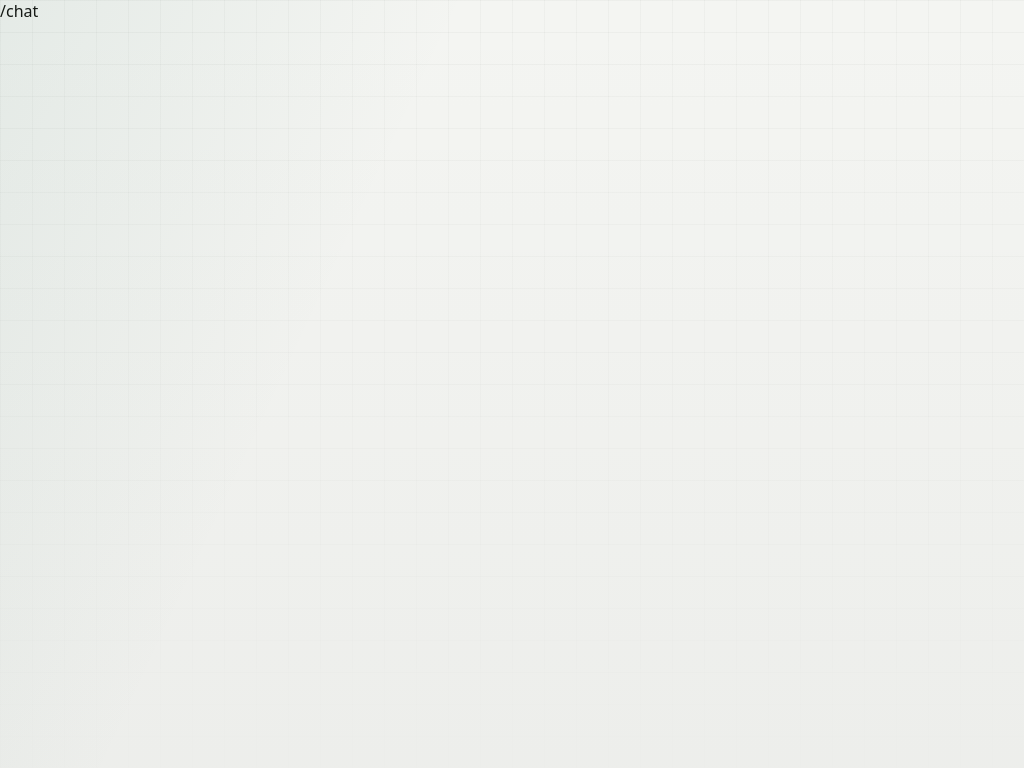
Scenario: CommandPalette › renders a clear empty result state
Press k
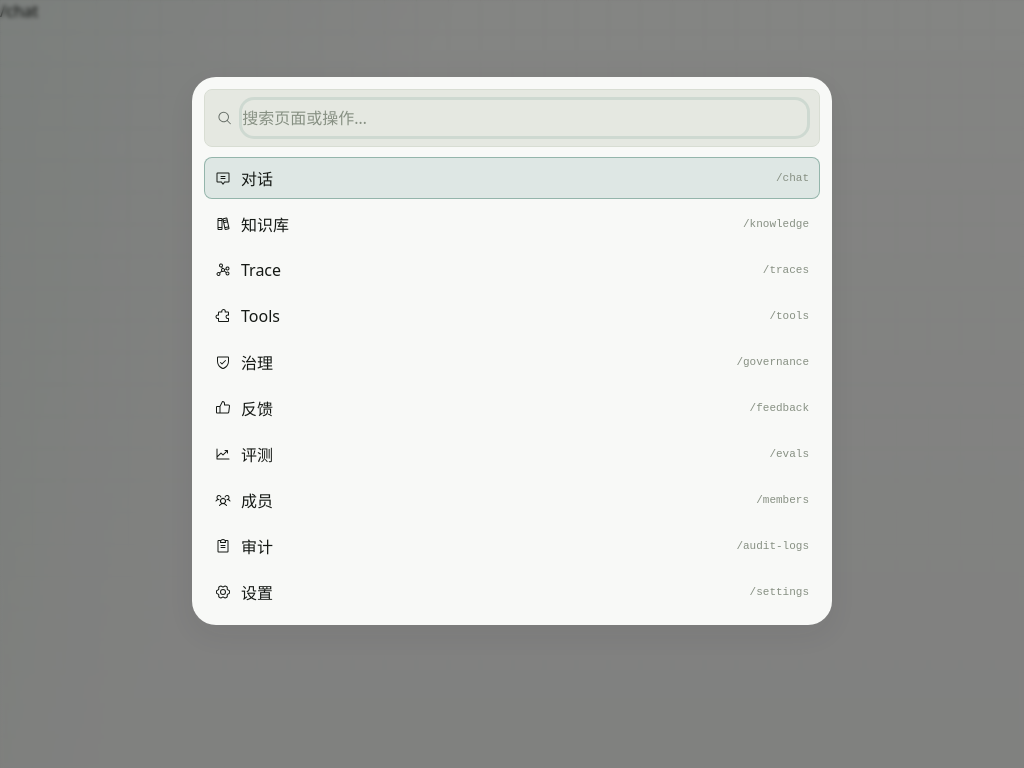
In the dropdown labelled "搜索页面或操作": (525, 118) [242,100,807,136], type "no-matches"
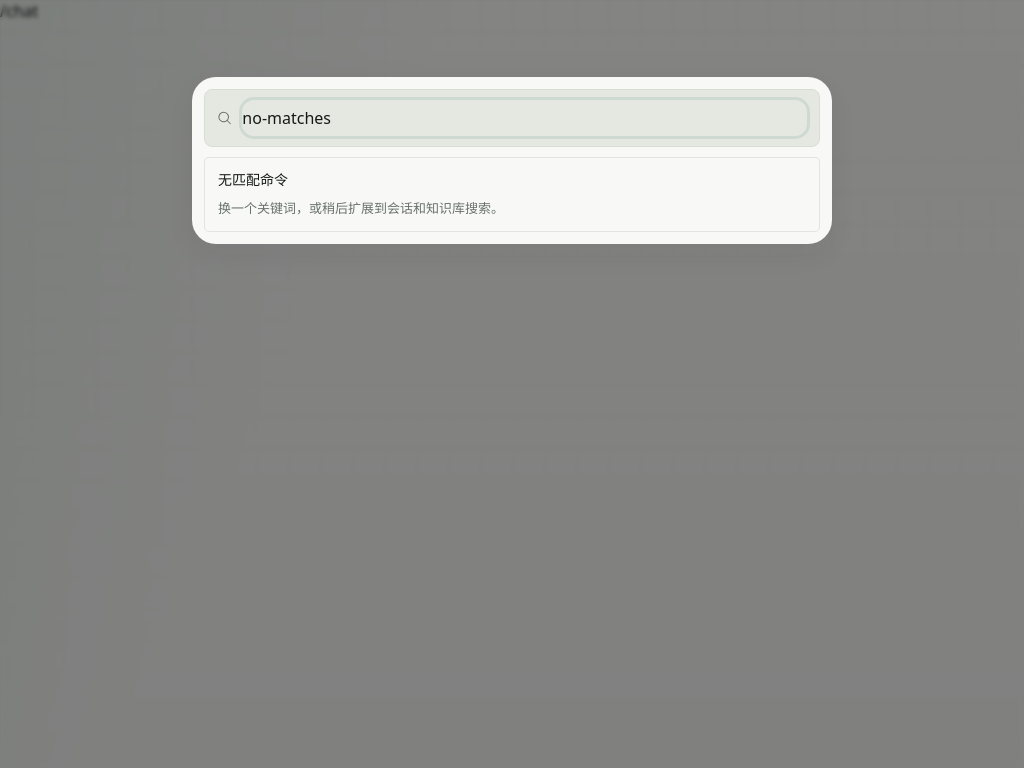
Check: the message "无匹配命令" is shown, box [204,157,820,232]
